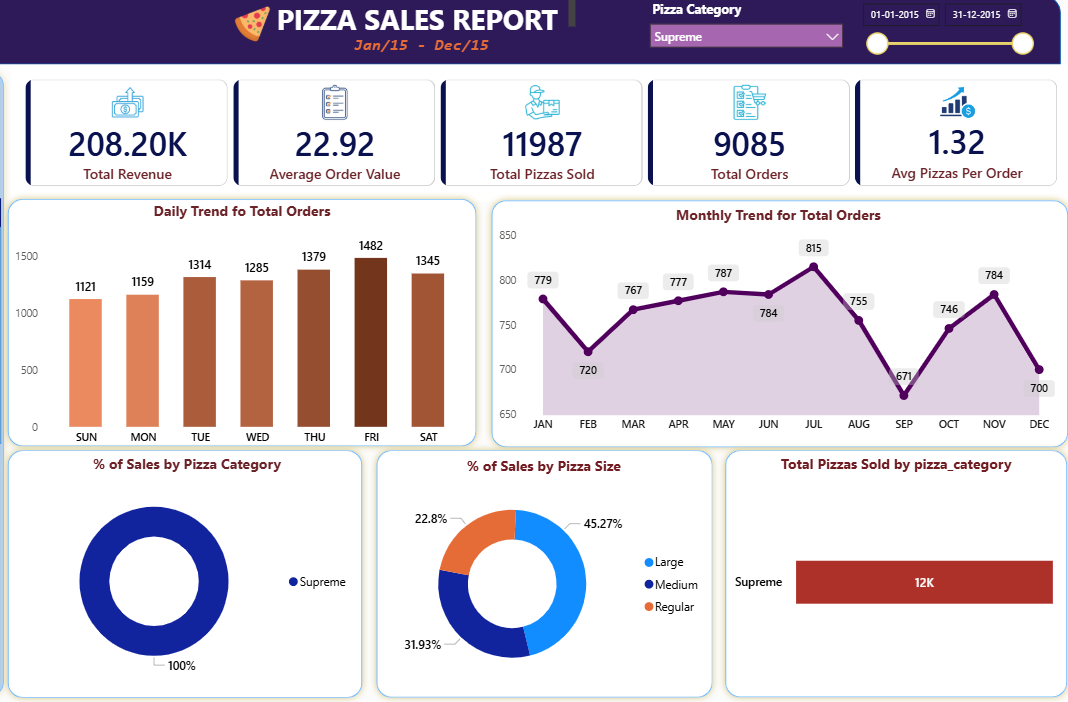

Layout of this report page (visuals, bound fields, positions):
{"tool":"powerbi","page":{"name":"Home","canvas":[1500,820],"ordinal":0},"visuals":[{"type":"shape","box":[0,88.6,284.3,730],"z":0},{"type":"cardVisual","fields":{"Data":["pizza_sales.Total Revenue","pizza_sales.Average Order Value","pizza_sales.Total Pizzas Sold","pizza_sales.Total Orders","pizza_sales.Avg Pizzas Per Order"]},"box":[284.4,88.9,1215.6,156.7],"z":1000},{"type":"shape","box":[8.6,10,1475.7,78.6],"z":2000},{"type":"textbox","box":[572.9,10,361.4,45.7],"z":3000},{"type":"textbox","box":[662.9,50,181.4,31.4],"z":4000},{"type":"image","box":[535.7,21.4,50,41.4],"z":5000},{"type":"shape","box":[272.9,234.3,551.4,298.6],"z":6000},{"type":"columnChart","title":"Daily Trend fo Total Orders","fields":{"Category":["pizza_sales.Order Day"],"Y":["pizza_sales.Total Orders"]},"box":[284.3,244.3,528.6,288.6],"z":7000},{"type":"shape","box":[825,235,675,298.3],"z":8000},{"type":"areaChart","title":"Monthly Trend for Total Orders","fields":{"Y":["pizza_sales.Total Orders"],"Category":["pizza_sales.Order Month"]},"box":[836.7,248.3,648.3,270],"z":9000},{"type":"shape","box":[273.3,521.1,421.1,298.9],"z":10000},{"type":"shape","box":[694.3,521.4,400,298.6],"z":11000},{"type":"shape","box":[1093.3,521.7,406.7,298.3],"z":12000},{"type":"donutChart","title":"% of Sales by Pizza Category","fields":{"Category":["pizza_sales.pizza_category"],"Y":["pizza_sales.Total Revenue"]},"box":[290,532.9,391.4,271.4],"z":13000},{"type":"donutChart","title":"% of Sales by Pizza Size","fields":{"Y":["pizza_sales.Total Revenue"],"Category":["pizza_sales.pizza_size"]},"box":[702.9,535.7,381.4,271.4],"z":14000},{"type":"funnel","fields":{"Category":["pizza_sales.pizza_category"],"Y":["pizza_sales.Total Pizzas Sold"]},"box":[1106.7,533.3,378.3,271.7],"z":15000},{"type":"textbox","box":[10,241.4,262.9,32.9],"z":16000},{"type":"textbox","box":[10,274.4,263.3,247.8],"z":17000},{"type":"textbox","box":[8.9,535.6,263.3,36.7],"z":18000},{"type":"textbox","box":[8.9,572.2,263.3,234.4],"z":19000},{"type":"slicer","fields":{"Values":["pizza_sales.pizza_category"]},"box":[1004.3,10,241.4,71.4],"z":20000},{"type":"slicer","fields":{"Values":["pizza_sales.order_date"]},"box":[1245.7,8.6,215.7,80],"z":21000},{"type":"pageNavigator","box":[17.1,117.1,254.3,50],"z":21001},{"type":"pageNavigator","box":[16.2,183.8,253.8,50],"z":21002},{"type":"image","box":[228.8,120,55,43.8],"z":21003},{"type":"image","box":[17.5,123.8,50,37.5],"z":21004},{"type":"image","box":[22.5,186.2,41.2,43.8],"z":21005}]}

Visuals, with their boxes on the page's 1500x820 design canvas (x1, y1, x2, y2). These are canvas units, not pixel positions in the 1068x702 screenshot, which may show the page scaled, cropped or inside an application window:
shape: Rect(0, 89, 284, 819)
cardVisual - pizza_sales.Total Revenue x pizza_sales.Average Order Value: Rect(284, 89, 1500, 246)
shape: Rect(9, 10, 1484, 89)
textbox: Rect(573, 10, 934, 56)
textbox: Rect(663, 50, 844, 81)
image: Rect(536, 21, 586, 63)
shape: Rect(273, 234, 824, 533)
"Daily Trend fo Total Orders" columnChart: Rect(284, 244, 813, 533)
shape: Rect(825, 235, 1500, 533)
"Monthly Trend for Total Orders" areaChart: Rect(837, 248, 1485, 518)
shape: Rect(273, 521, 694, 820)
shape: Rect(694, 521, 1094, 820)
shape: Rect(1093, 522, 1500, 820)
"% of Sales by Pizza Category" donutChart: Rect(290, 533, 681, 804)
"% of Sales by Pizza Size" donutChart: Rect(703, 536, 1084, 807)
funnel - pizza_sales.pizza_category x pizza_sales.Total Pizzas Sold: Rect(1107, 533, 1485, 805)
textbox: Rect(10, 241, 273, 274)
textbox: Rect(10, 274, 273, 522)
textbox: Rect(9, 536, 272, 572)
textbox: Rect(9, 572, 272, 807)
slicer - pizza_sales.pizza_category: Rect(1004, 10, 1246, 81)
slicer - pizza_sales.order_date: Rect(1246, 9, 1461, 89)
pageNavigator: Rect(17, 117, 271, 167)
pageNavigator: Rect(16, 184, 270, 234)
image: Rect(229, 120, 284, 164)
image: Rect(18, 124, 68, 161)
image: Rect(22, 186, 64, 230)
